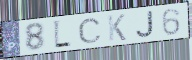6: (161, 8, 182, 37)
8: (23, 21, 47, 53)
C: (77, 17, 103, 45)
J: (135, 10, 155, 39)
K: (107, 13, 128, 42)
L: (52, 19, 73, 51)
